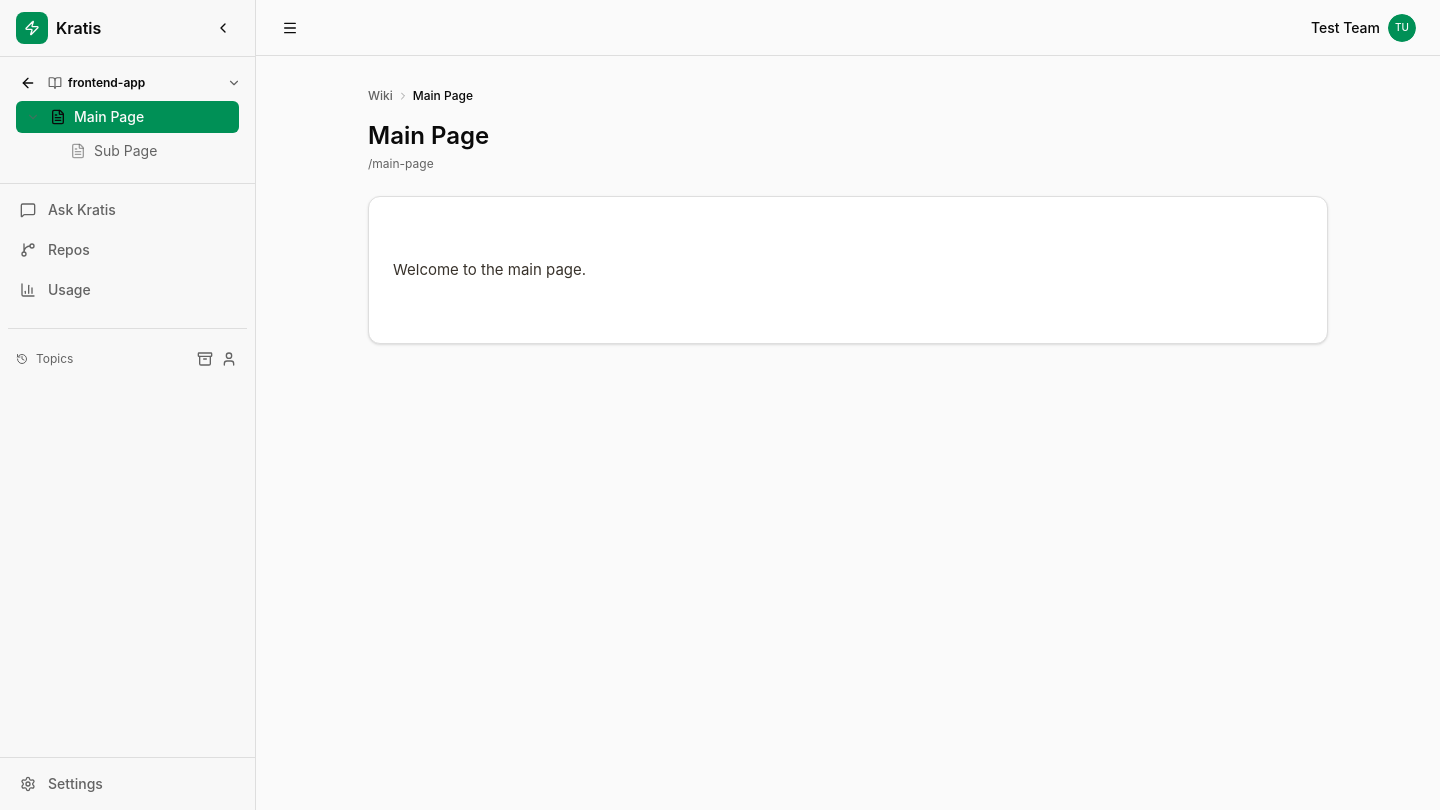
Test: Wiki Flow and Navigation › renders the wiki sidebar section and selected page content
Expected: the text "Welcome to the main page." is shown, [393, 260, 586, 279]
Expected: the element with test id "wiki-sidebar-section" is shown, [8, 65, 247, 175]
Click the text "Sub Page" at {"x": 126, "y": 151}, box [94, 141, 157, 161]
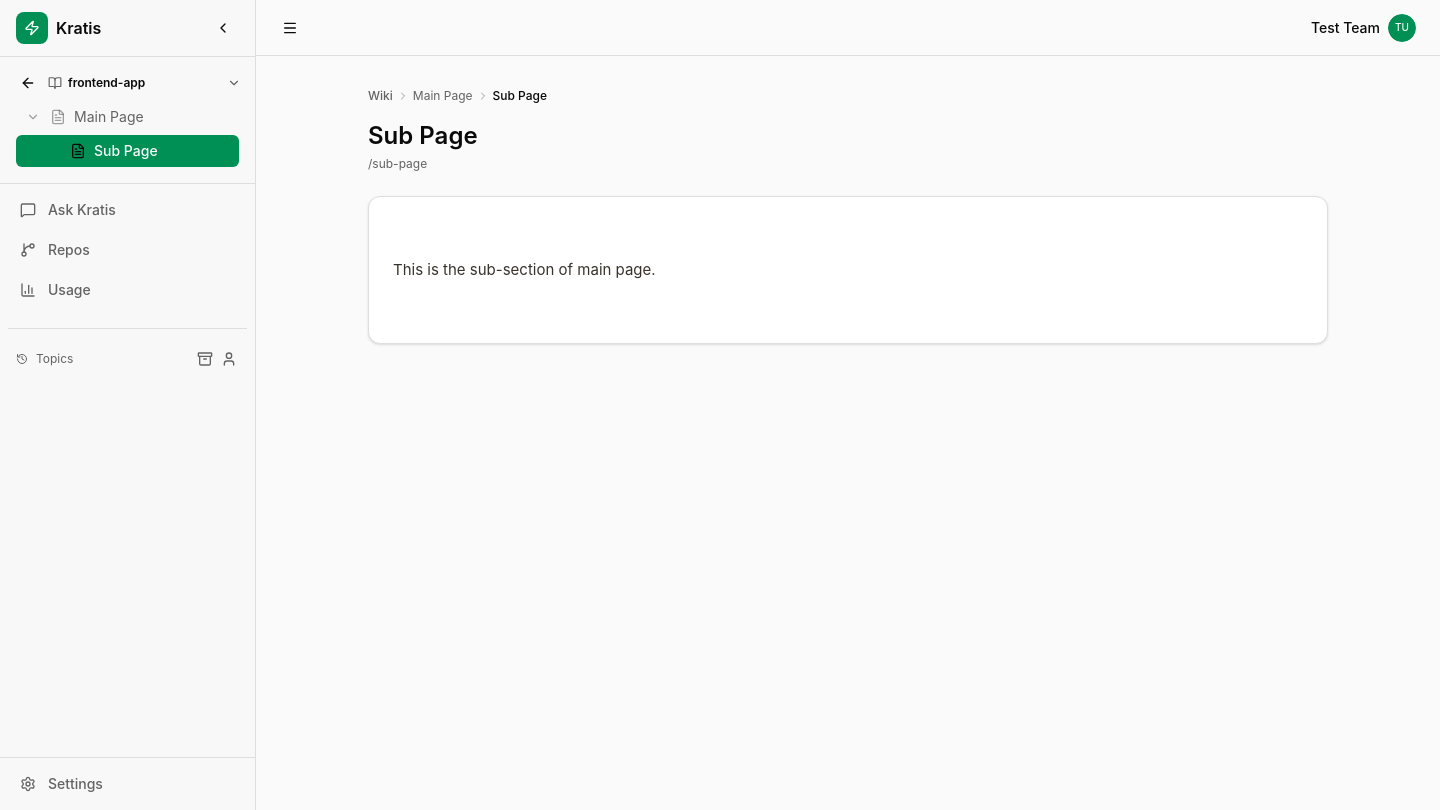
Expected: the text "This is the sub-section of main page." is shown, [393, 260, 656, 279]
